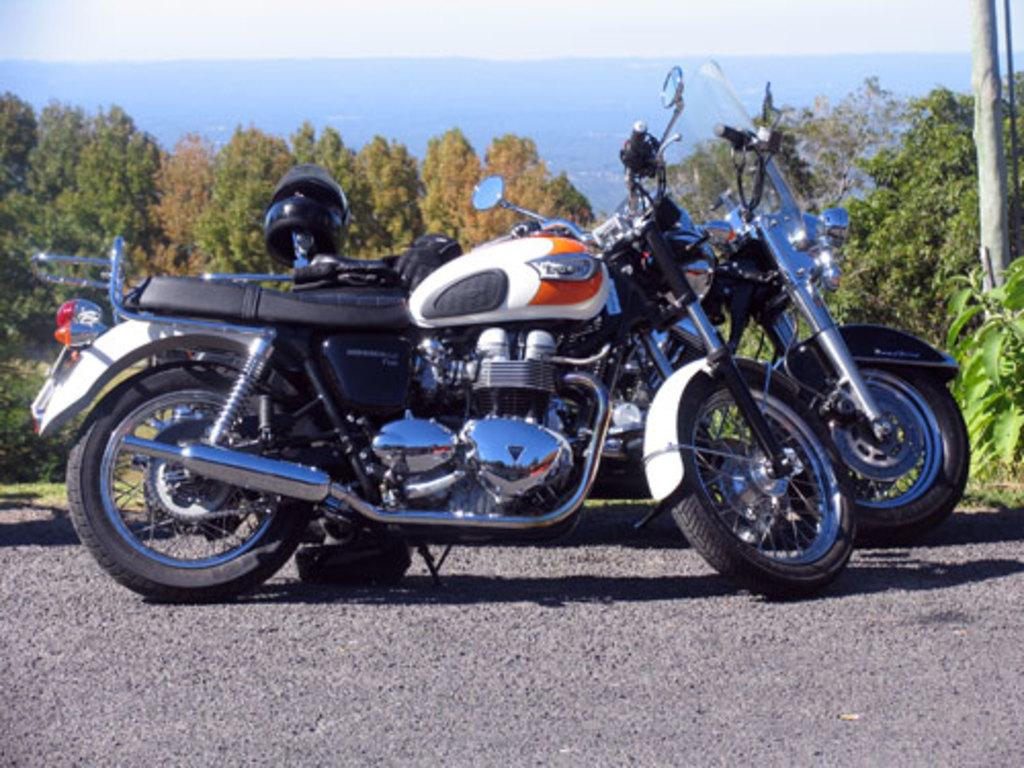helmet: (262, 164, 353, 269)
